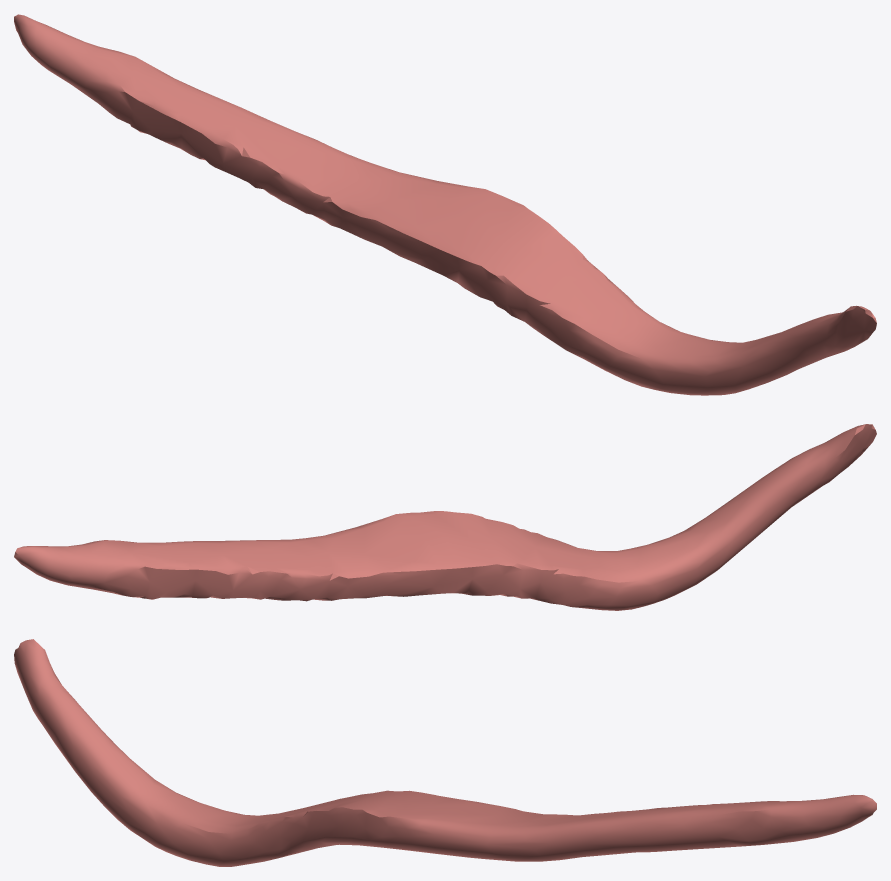
The model's file is fma37719_mm1739m.glb.
The picture shows the model from 3 angles, top to bottom: view 1: azimuth 90°, elevation 25°; view 2: azimuth 150°, elevation 25°; view 3: azimuth 270°, elevation 25°; orthographic projection. The views are drawn at different scales.
Parts seen in each view (by area): view 1: FMA37719_MM1739M; view 2: FMA37719_MM1739M; view 3: FMA37719_MM1739M.
Part boxes in pixels (<box>): FMA37719_MM1739M: <box>14,14,876,395</box>; FMA37719_MM1739M: <box>14,424,876,610</box>; FMA37719_MM1739M: <box>14,639,876,866</box>.
Bounding box in the file's own units: 0.0438 × 0.0192 × 0.0696.
